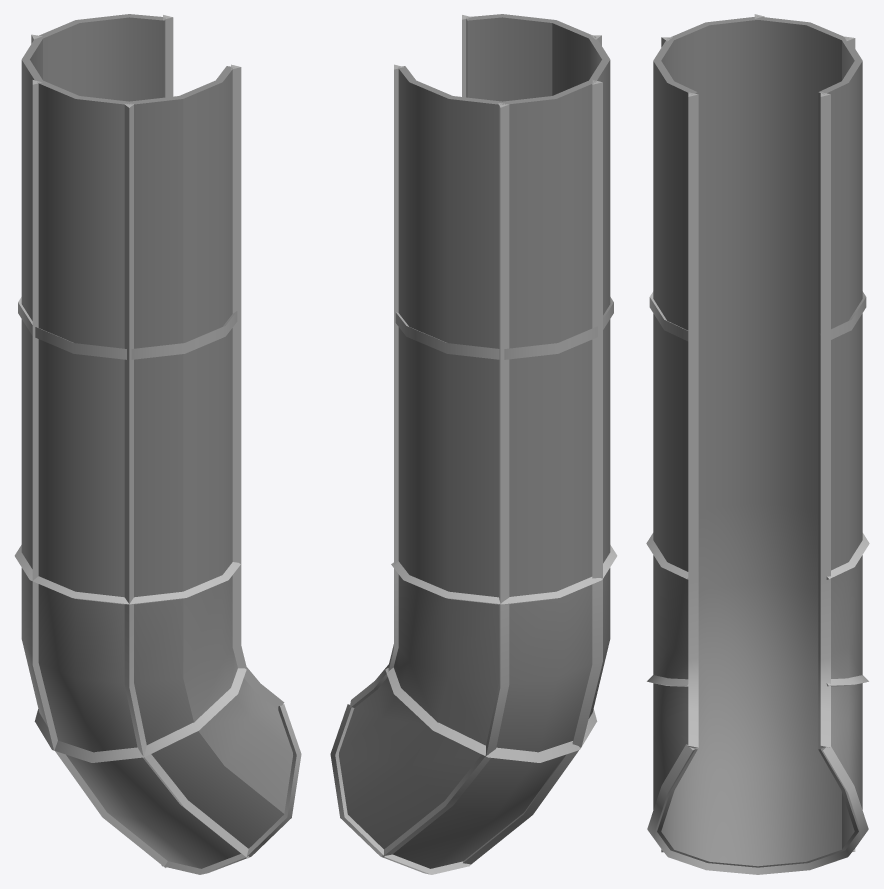
File: minimi_pipe.FBX
3 views of the same model, side by side, from view 1: azimuth 30°, elevation 25°; view 2: azimuth 150°, elevation 25°; view 3: azimuth 270°, elevation 25° (orthographic). The views are drawn at different scales.
Visible parts, largest first — view 1: minimi_pipe_x, Shape001; view 2: minimi_pipe_x, Shape001; view 3: minimi_pipe_x, Shape001.
Boxes of the visible parts, x1,y1,x2,y2 form: minimi_pipe_x: (21, 14, 292, 868); Shape001: (14, 15, 301, 874); minimi_pipe_x: (339, 14, 610, 868); Shape001: (330, 15, 617, 874); minimi_pipe_x: (653, 16, 862, 867); Shape001: (646, 14, 869, 874).
Size of the model in its own units: 59.5 by 206 by 52.53.
2 materials, 1 textured.
